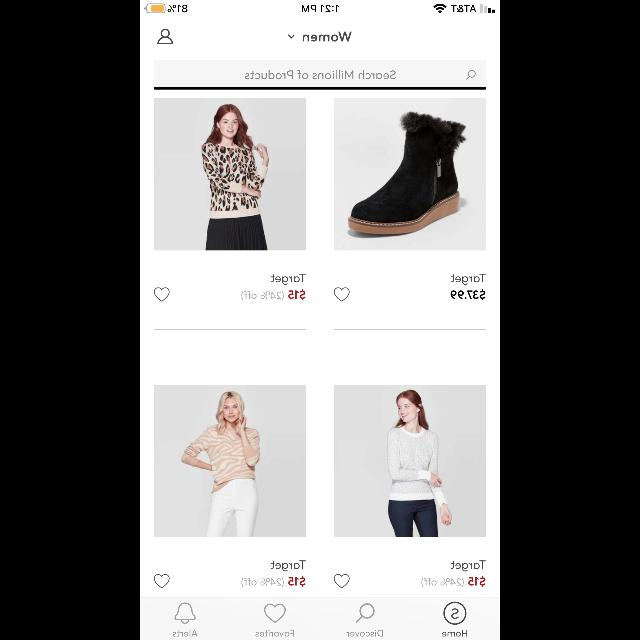icon: (174, 602, 196, 624), (264, 603, 286, 623), (356, 603, 374, 623), (157, 29, 173, 45), (334, 574, 350, 588), (154, 574, 170, 588), (333, 287, 349, 301), (466, 70, 476, 80), (288, 35, 294, 39)
image: (154, 385, 306, 537), (334, 385, 486, 537), (154, 98, 306, 250), (334, 98, 486, 250), (444, 602, 466, 624)
input: (154, 60, 486, 90)
text: (244, 70, 396, 80), (421, 576, 485, 586), (241, 576, 305, 586), (241, 290, 305, 300), (303, 32, 352, 42), (450, 560, 486, 572), (270, 560, 306, 572), (270, 274, 306, 284), (450, 274, 486, 284), (450, 290, 486, 300), (346, 630, 384, 636), (256, 630, 294, 636), (442, 630, 466, 636), (173, 630, 197, 636)
uppertaskbar: (140, 1, 500, 15)
